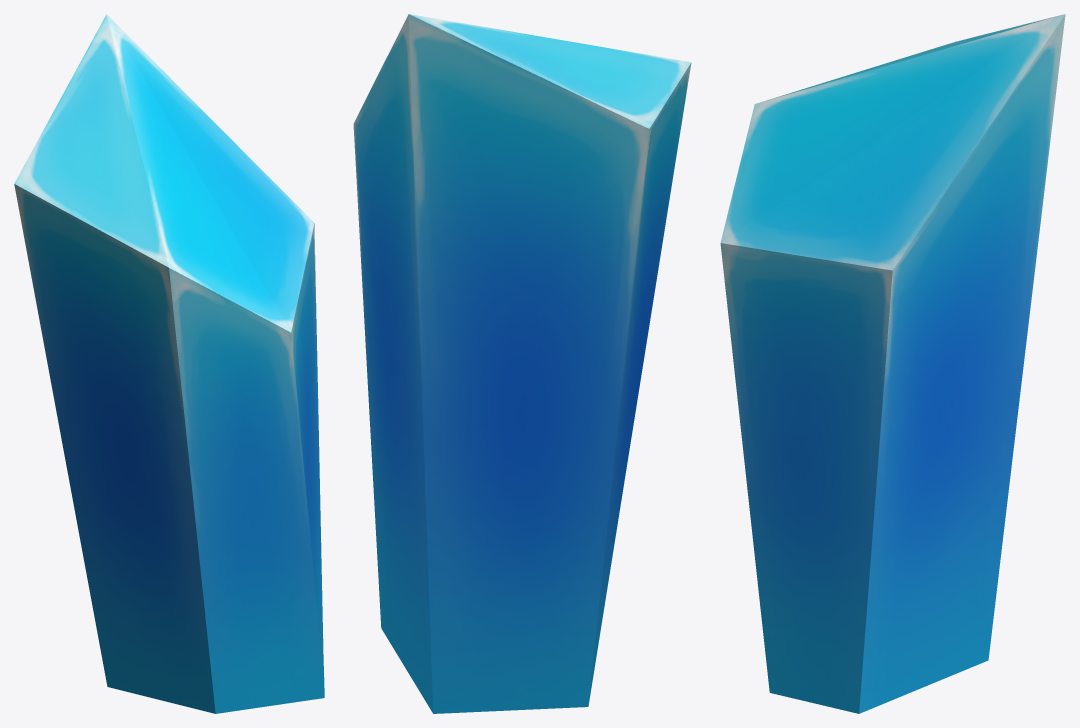
File: Crystal_2.FBX
The picture shows the model from 3 angles, left to right: view 1: azimuth 30°, elevation 25°; view 2: azimuth 150°, elevation 25°; view 3: azimuth 270°, elevation 25°; orthographic projection. The views are drawn at different scales.
Visible parts, largest first — view 1: Crystal_2; view 2: Crystal_2; view 3: Crystal_2.
Part boxes in pixels (x1,y1,x2,y2): Crystal_2: (14, 14, 324, 713); Crystal_2: (353, 14, 691, 713); Crystal_2: (720, 14, 1065, 713).
Size of what is drawn, in the model's own units: 99.91 by 104 by 212.
